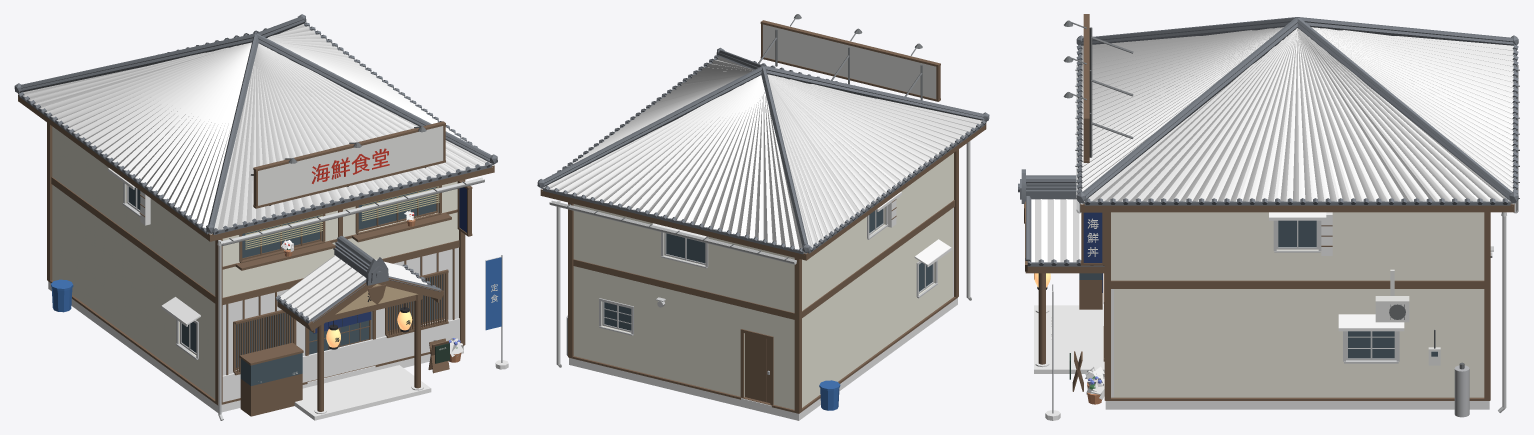
The model's file is shop_restaurant.glb.
3 views of the same model, side by side, from view 1: azimuth 30°, elevation 25°; view 2: azimuth 150°, elevation 25°; view 3: azimuth 270°, elevation 25° (orthographic). The views are drawn at different scales.
Visible parts, largest first — view 1: shop_restaurant_body; view 2: shop_restaurant_body; view 3: shop_restaurant_body.
Boxes of the visible parts, x1,y1,x2,y2 form: shop_restaurant_body: (14, 14, 508, 420); shop_restaurant_body: (537, 14, 989, 420); shop_restaurant_body: (1018, 14, 1519, 420).
Size of what is drawn, in the model's own units: 8.99 by 8.5 by 11.9.
